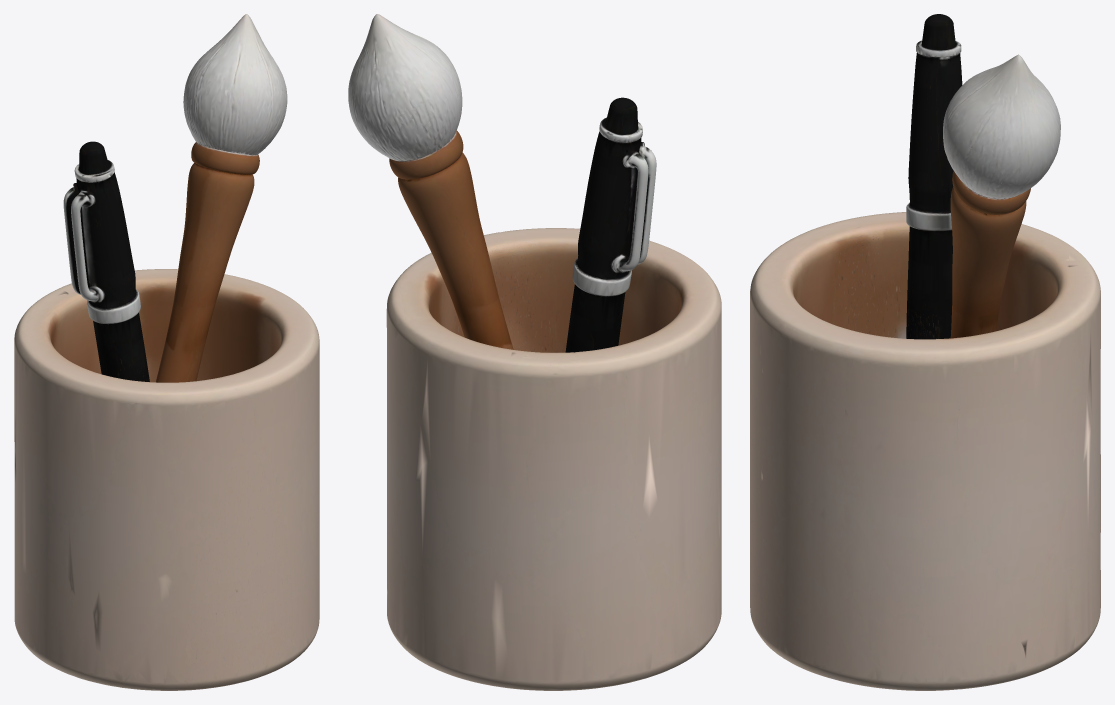
Rendered from penholder.glb.
The picture shows the model from 3 angles, left to right: view 1: azimuth 30°, elevation 25°; view 2: azimuth 150°, elevation 25°; view 3: azimuth 270°, elevation 25°; orthographic projection. The views are drawn at different scales.
Parts seen in each view (by area): view 1: node_0; view 2: node_0; view 3: node_0.
Part boxes in pixels (<box>): node_0: <box>14,14,319,690</box>; node_0: <box>348,14,721,690</box>; node_0: <box>750,14,1100,690</box>.
Bounding box in the file's own units: 0.5613 × 1.07 × 0.5369.
Materials: 1 (1 with a texture image).
